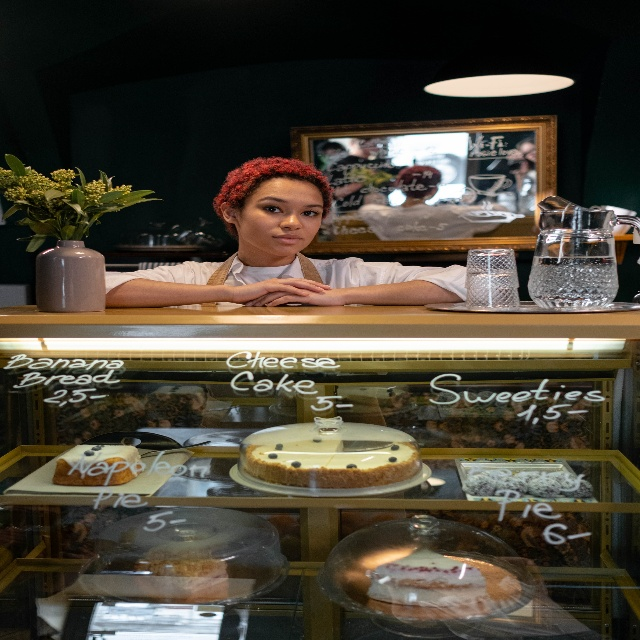Sin_guantes: (245, 282, 347, 308), (232, 273, 330, 299)
